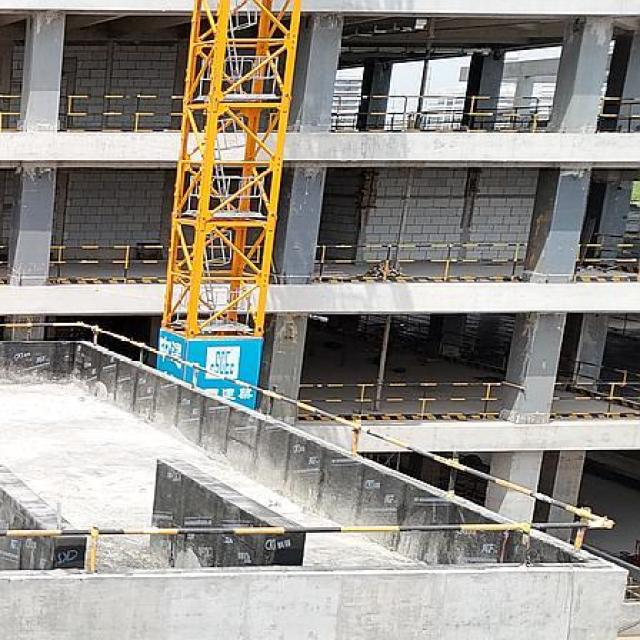edge_guardrail: (0, 321, 617, 614), (312, 242, 528, 284), (332, 94, 554, 134), (296, 382, 504, 422), (550, 356, 640, 418), (47, 244, 170, 284), (59, 94, 184, 133), (573, 244, 640, 283), (595, 96, 640, 133), (593, 232, 640, 255), (0, 95, 21, 132), (0, 245, 9, 266)
